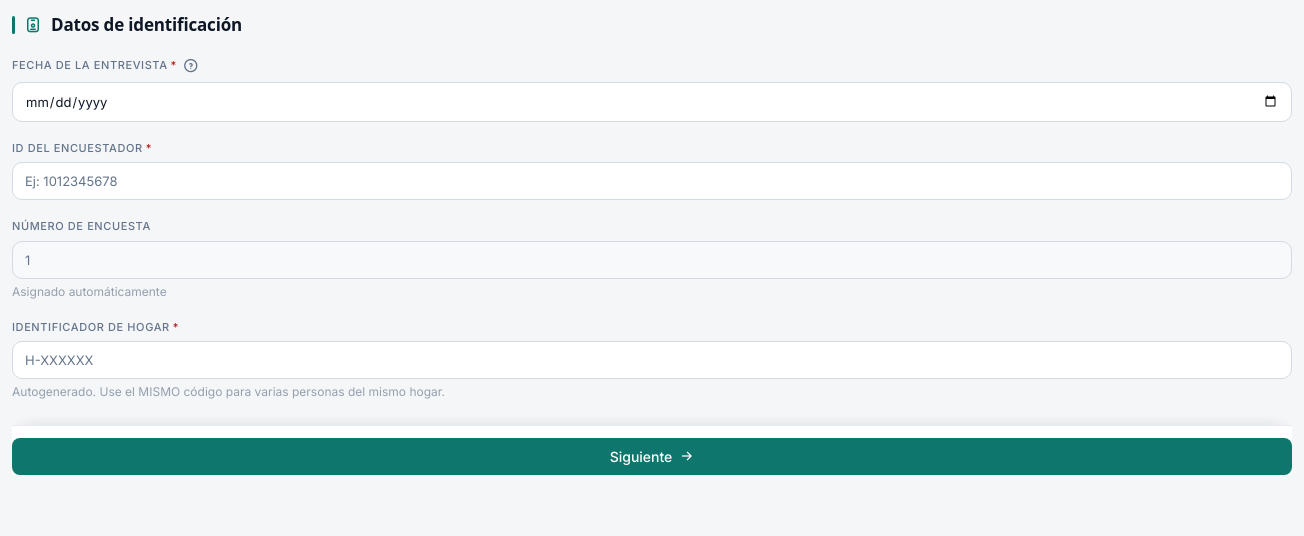
Scenario: Step1 — Identificación (RHF + zod integration) › blocks submit and shows a validation error when required fields are empty
Click the button "Siguiente".
click(652, 456)  # box [12, 438, 1292, 475]
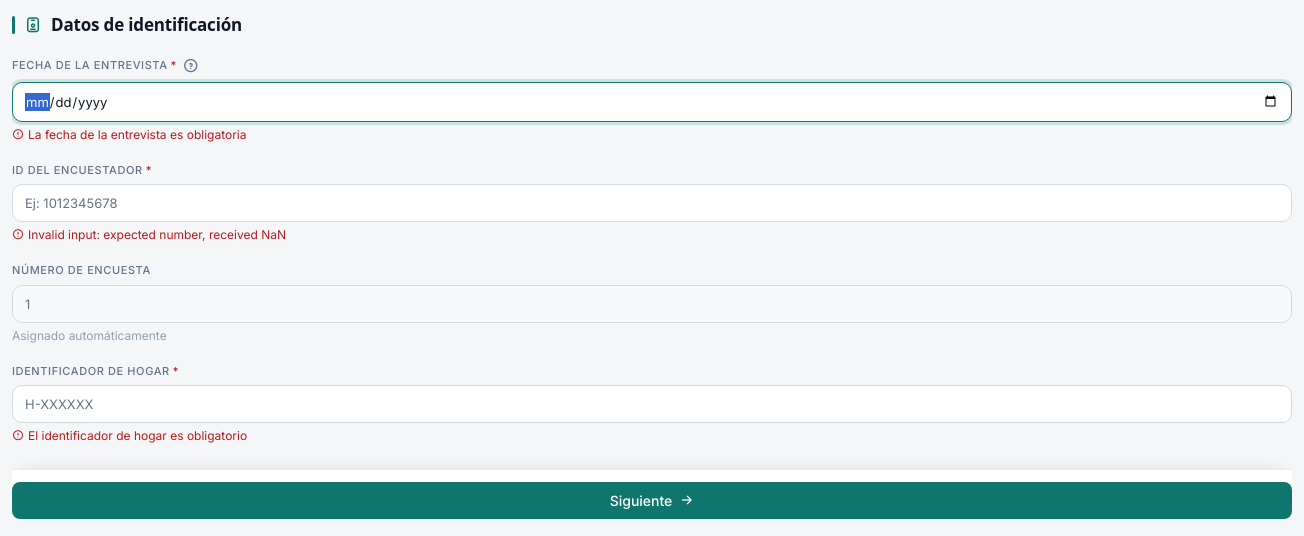
Now the text "La fecha de la entrevista es obligatoria" is shown, box [12, 126, 246, 142]
